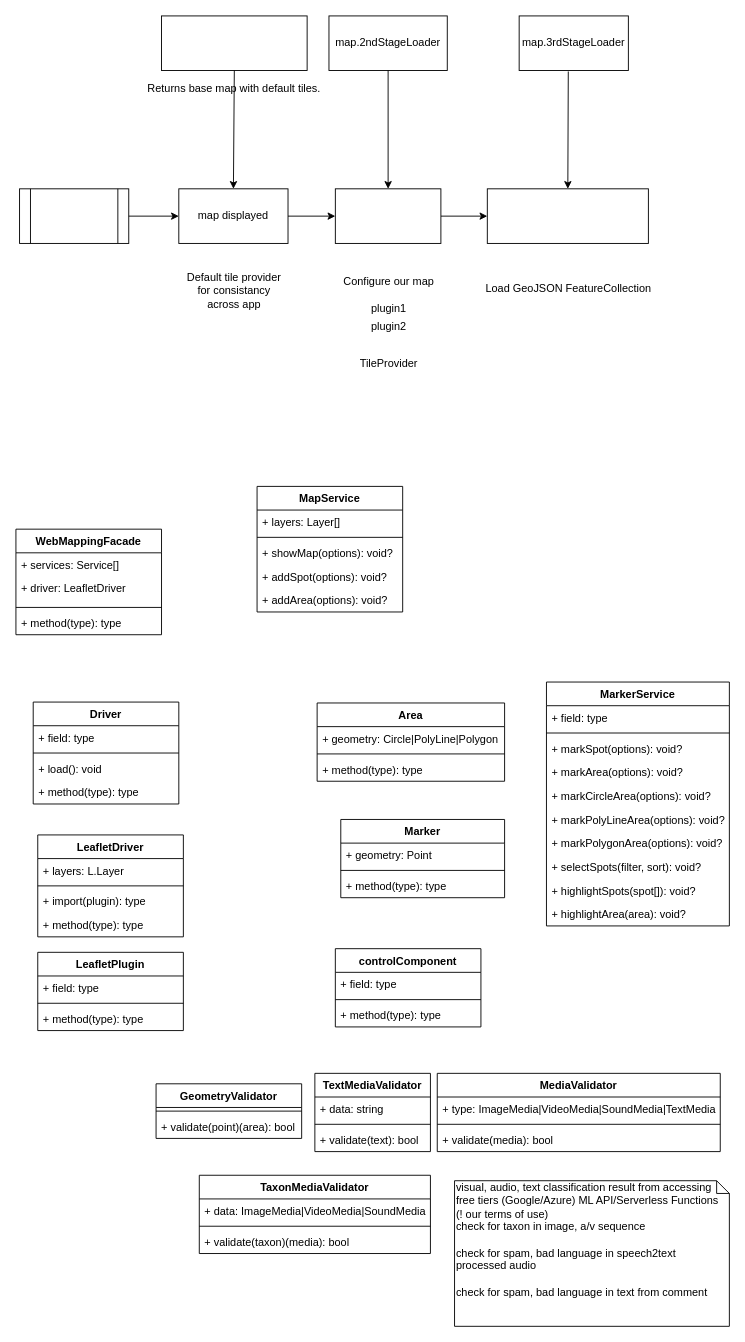
Image size: 745x1342. Some labels were removed from this diagram. Here are the shapes that lost their labels. From the top down, the centre of each, then its label:
At point (234, 43): "map.1stStageLoader".
At point (74, 215): "We need a map".
At point (387, 215): "config".
At point (567, 215): "I can haz layerz and markerz".
